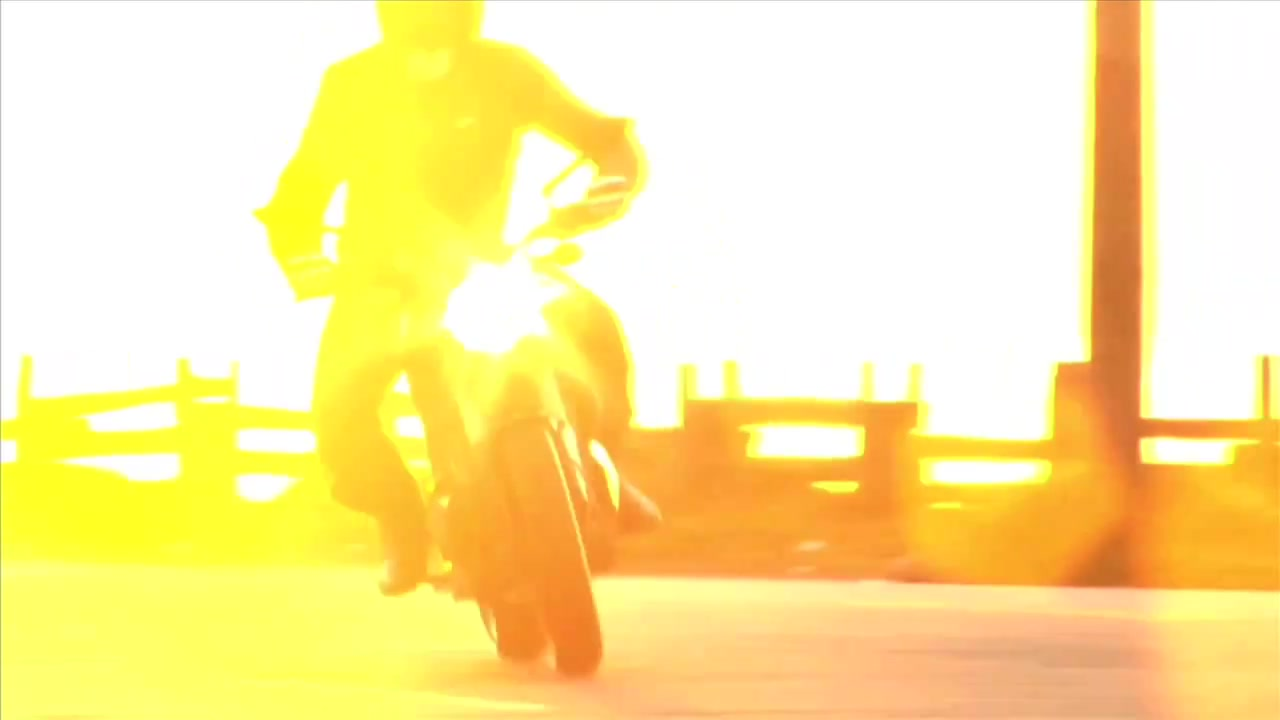motorbike: (258, 143, 639, 681)
